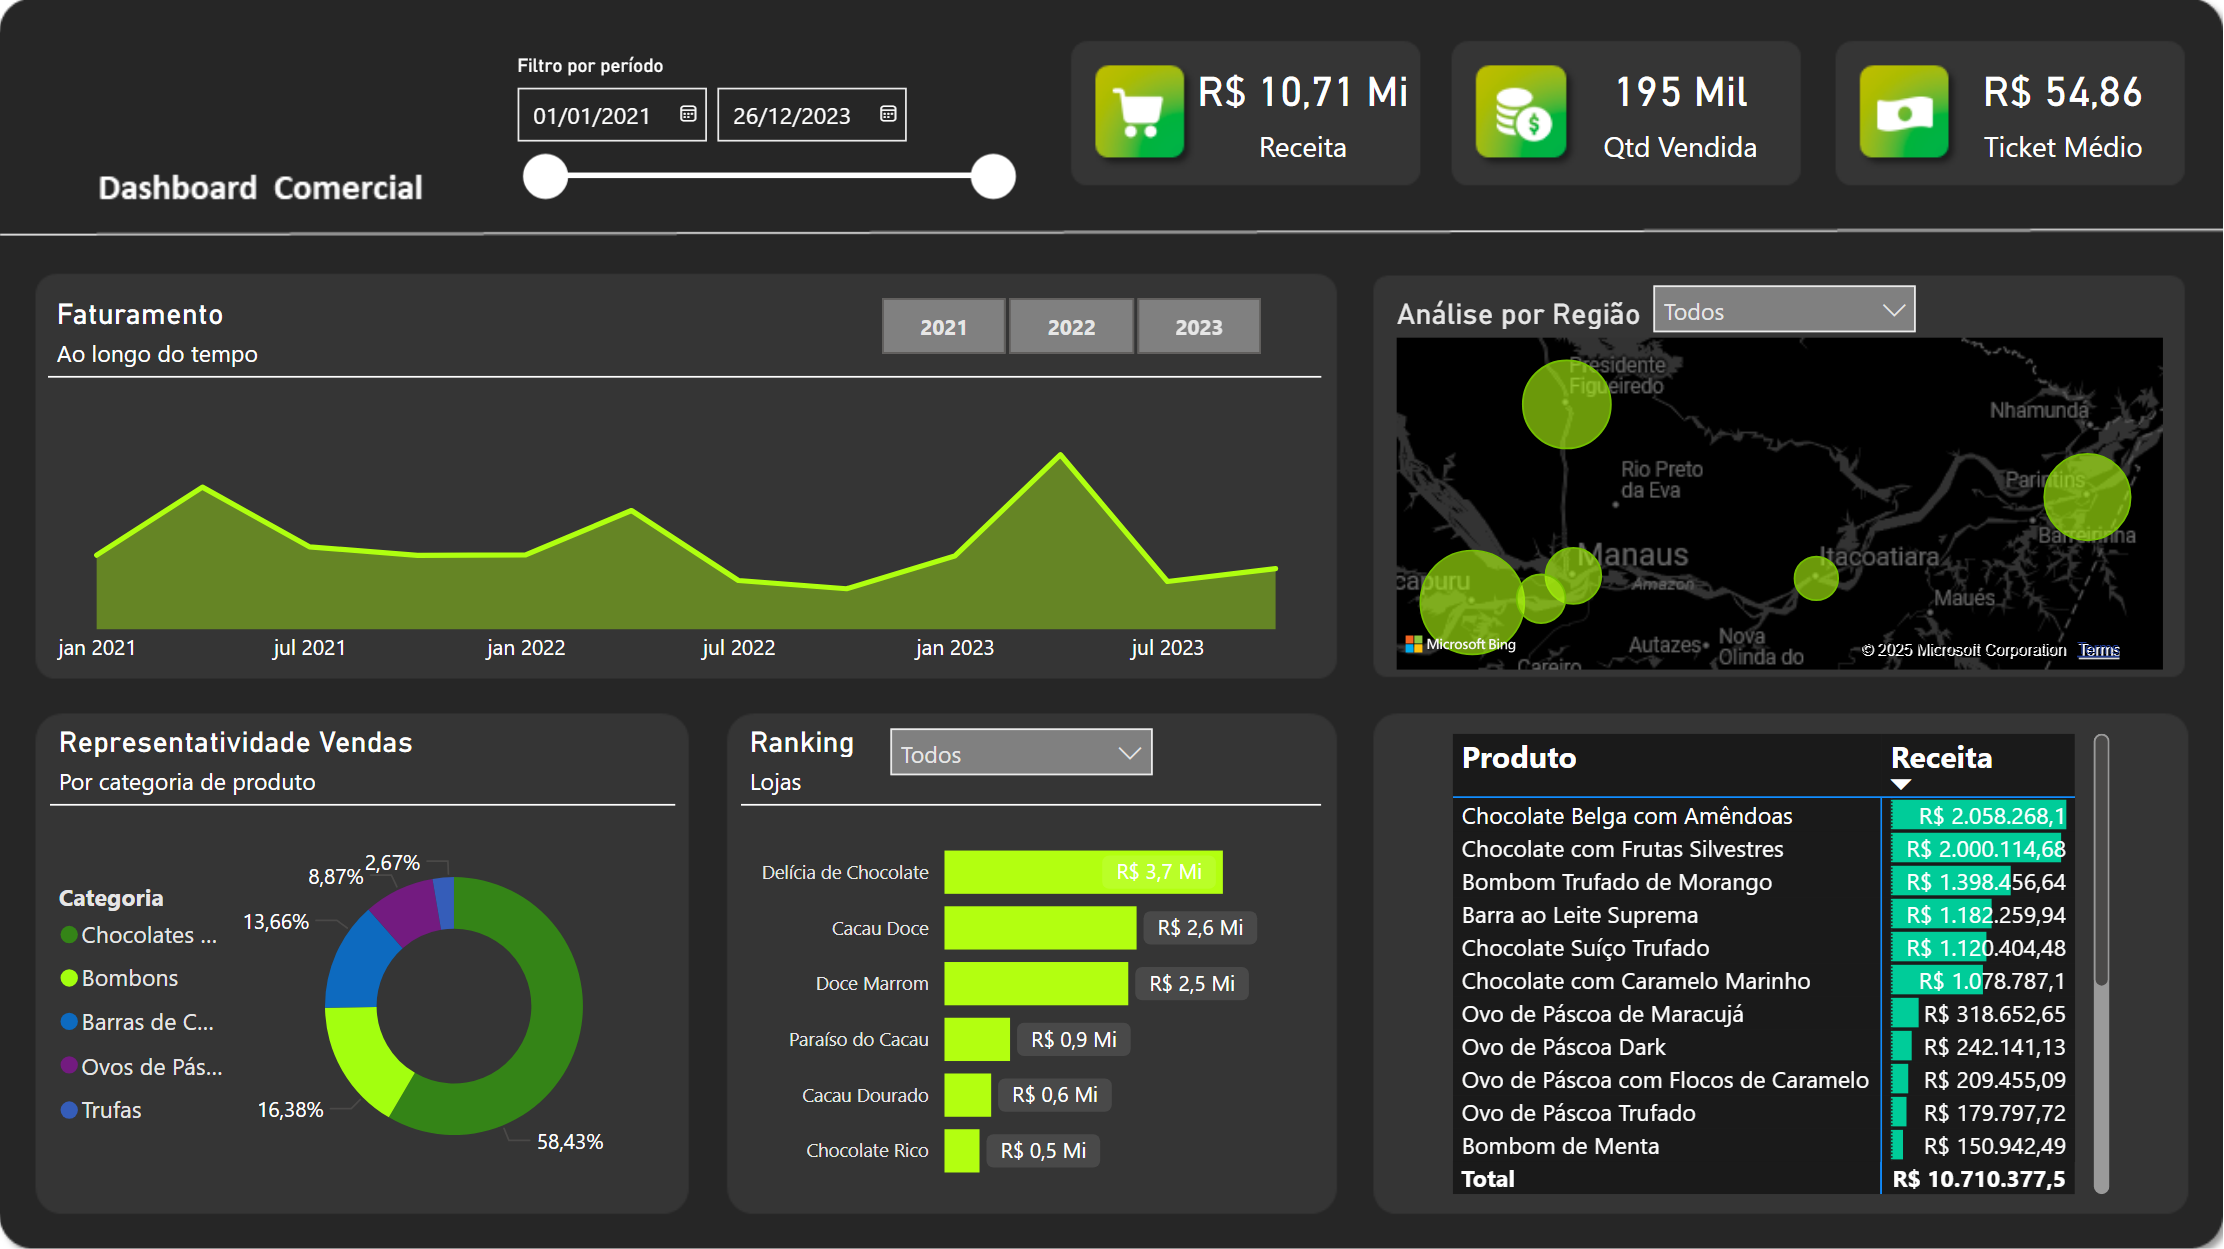

This screenshot's page, from the dashboard's own definition file:
{"tool":"powerbi","page":{"name":"Página 1","canvas":[1280,720],"ordinal":0},"visuals":[{"type":"card","fields":{"Values":["Vendas.Receita"]},"box":[673.4,27,154.2,72],"z":0},{"type":"card","fields":{"Values":["Vendas.Qtd Vendida"]},"box":[888,27,159.4,72],"z":1000},{"type":"card","fields":{"Values":["Vendas.Preço Médio por Venda"]},"box":[1120.6,27,134.9,72],"z":2000},{"type":"areaChart","title":"Faturamento","fields":{"Category":["Vendas.Data.Variation.Hierarquia de datas.Ano","Vendas.Data.Variation.Hierarquia de datas.Trimestre","Vendas.Data.Variation.Hierarquia de datas.Mês","Vendas.Data.Variation.Hierarquia de datas.Dia"],"Y":["Vendas.Receita"]},"box":[28.3,170.9,732.5,219.8],"z":3000},{"type":"donutChart","title":"Representatividade Vendas","fields":{"Category":["Produtos.Categoria"],"Y":["Vendas.Receita"]},"box":[29.2,417.5,360,276.7],"z":4000},{"type":"map","title":"Análise por Região","fields":{"Category":["Lojas.Cidade"],"Size":["Vendas.Receita"]},"box":[799.4,170.9,451.1,219.8],"z":5000},{"type":"barChart","title":"Ranking","fields":{"Category":["Lojas.Loja"],"Y":["Vendas.Receita"]},"box":[427.1,417.1,334.3,275.7],"z":6000},{"type":"pivotTable","title":"aaaa","fields":{"Rows":["Produtos.Categoria","Produtos.Produto"],"Values":["Vendas.Receita"]},"box":[831.5,417.7,388.1,275],"z":7000},{"type":"slicer","fields":{"Values":["Vendas.Data"]},"box":[285.3,27,308.4,93.8],"z":8000},{"type":"slicer","fields":{"Values":["Vendas.Data.Variation.Hierarquia de datas.Ano"]},"box":[482.5,165,268.3,45.8],"z":9000},{"type":"slicer","fields":{"Values":["Lojas.Cidade"]},"box":[942,154.7,171.3,42.7],"z":10000},{"type":"slicer","fields":{"Values":["Lojas.Loja"]},"box":[502.9,410,170.7,45],"z":11000}]}

Visuals, with their boxes in screenshot pixels (x1, y1, x2, y2), scaled from the page's 1280x720 canvas onto the 2224x1249 screenshot:
card - Vendas.Receita: x1=1170, y1=47, x2=1438, y2=172
card - Vendas.Qtd Vendida: x1=1543, y1=47, x2=1820, y2=172
card - Vendas.Preço Médio por Venda: x1=1947, y1=47, x2=2181, y2=172
"Faturamento" areaChart: x1=49, y1=296, x2=1322, y2=678
"Representatividade Vendas" donutChart: x1=51, y1=724, x2=676, y2=1204
"Análise por Região" map: x1=1389, y1=296, x2=2173, y2=678
"Ranking" barChart: x1=742, y1=724, x2=1323, y2=1202
"aaaa" pivotTable: x1=1445, y1=725, x2=2119, y2=1202
slicer - Vendas.Data: x1=496, y1=47, x2=1032, y2=210
slicer - Vendas.Data.Variation.Hierarquia de datas.Ano: x1=838, y1=286, x2=1305, y2=366
slicer - Lojas.Cidade: x1=1637, y1=268, x2=1934, y2=342
slicer - Lojas.Loja: x1=874, y1=711, x2=1170, y2=789
